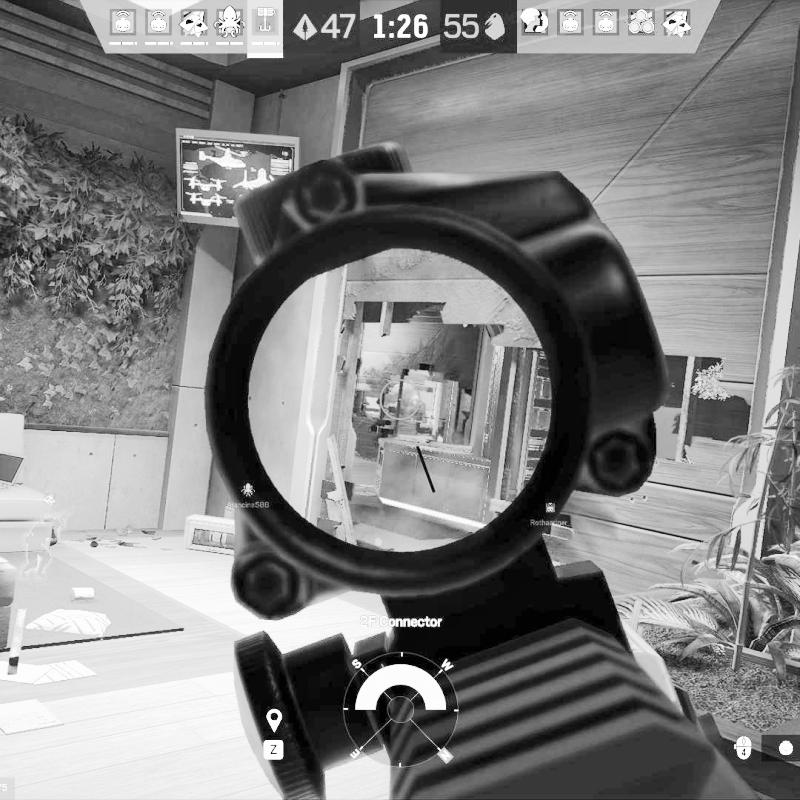Character: (411, 394, 433, 436)
Friend_label: (227, 480, 271, 511), (529, 500, 571, 528), (38, 492, 62, 519)
Head: (413, 396, 419, 404)
